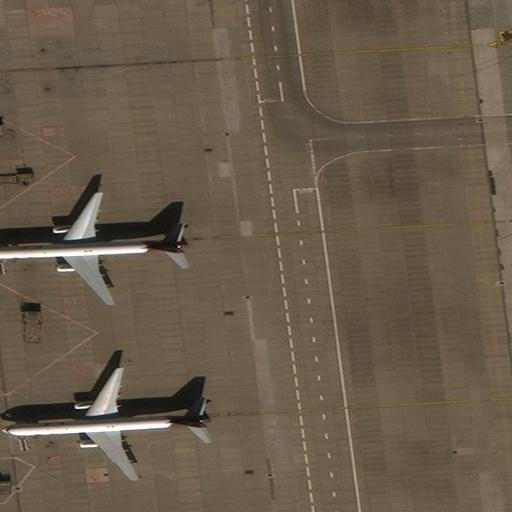Large Civil Transport: (1, 368, 209, 480), (0, 193, 184, 305)
